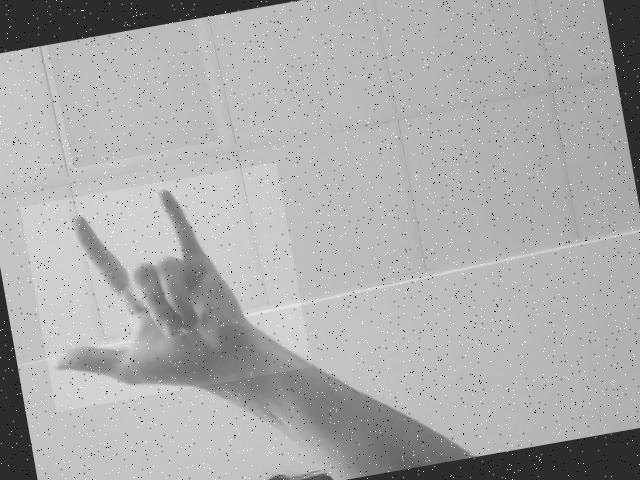I_Love_You: (20, 162, 312, 412)
